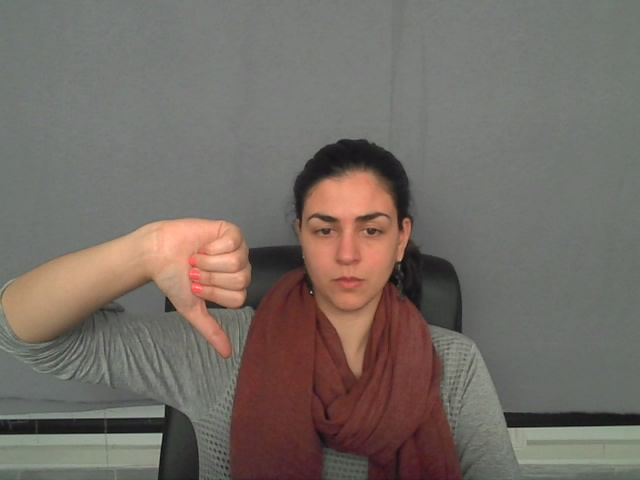down: (114, 199, 285, 378)
